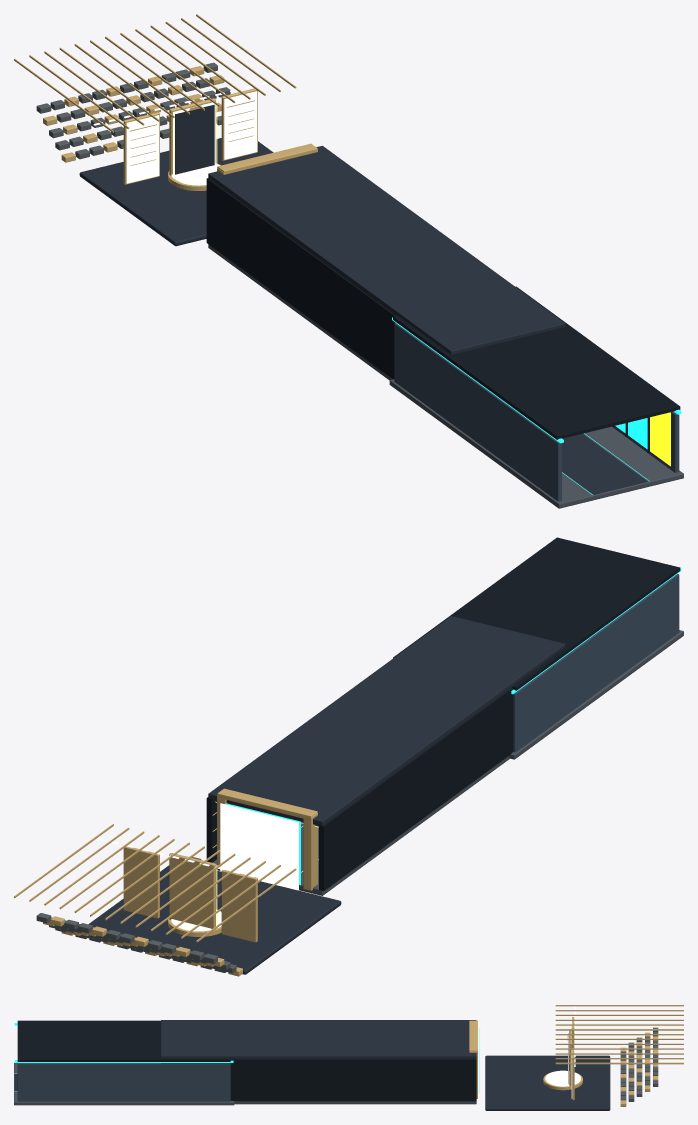
File: reveal-tunnel-BcxPwDFV.glb
The picture shows the model from 3 angles, top to bottom: view 1: azimuth 30°, elevation 25°; view 2: azimuth 150°, elevation 25°; view 3: azimuth 270°, elevation 25°; orthographic projection. The views are drawn at different scales.
Visible parts, largest first — view 1: TunnelCeiling, EntryCeiling, TunnelWall_-1, EntryWallBase_-1, StageDeck, EntranceFloor, EntryRunway, CardPhotoBacking, StatBoardFace_5.0, StatBoardFace_-5.0, GateFrameTop, LEDWall_1_0 (+2 smaller); view 2: TunnelCeiling, EntryCeiling, TunnelWall_-1, EntryWallBase_-1, StageDeck, GateGlow, CardOuterFrame, StatBoardHousing_-5.0, StatBoardHousing_5.0, EntranceFloor, TunnelFloor, GateFrameTop (+2 smaller); view 3: TunnelCeiling, TunnelWall_1, EntryWallBase_1, EntryCeiling, StageDeck, EntranceFloor, TunnelFloor, CardPedestalTop, StadiumRoofTruss_12, GateFrameTop, StadiumRoofTruss_4, StadiumRoofTruss_5 (+12 smaller).
Boxes of the visible parts, <box> form: TunnelCeiling: <box>208,145,565,354</box>; EntryCeiling: <box>393,286,680,439</box>; TunnelWall_-1: <box>206,178,395,379</box>; EntryWallBase_-1: <box>394,323,561,501</box>; StageDeck: <box>79,138,273,246</box>; EntranceFloor: <box>389,379,683,508</box>; EntryRunway: <box>562,434,647,494</box>; CardPhotoBacking: <box>175,104,214,174</box>; StatBoardFace_5.0: <box>224,91,257,159</box>; StatBoardFace_-5.0: <box>126,115,159,183</box>; GateFrameTop: <box>217,143,317,174</box>; LEDWall_1_0: <box>650,412,670,466</box>; TunnelCeiling: <box>208,616,565,826</box>; EntryCeiling: <box>393,537,680,690</box>; TunnelWall_-1: <box>319,687,513,890</box>; EntryWallBase_-1: <box>513,574,679,752</box>; StageDeck: <box>88,865,341,974</box>; GateGlow: <box>220,803,298,889</box>; CardOuterFrame: <box>169,853,215,930</box>; StatBoardHousing_-5.0: <box>221,870,257,942</box>; StatBoardHousing_5.0: <box>123,846,159,918</box>; EntranceFloor: <box>509,630,683,759</box>; TunnelFloor: <box>212,756,509,895</box>; GateFrameTop: <box>217,788,317,819</box>; TunnelCeiling: <box>161,1020,476,1058</box>; TunnelWall_1: <box>161,1059,476,1101</box>; EntryWallBase_1: <box>17,1063,230,1101</box>; EntryCeiling: <box>17,1020,230,1061</box>; StageDeck: <box>485,1055,610,1110</box>; EntranceFloor: <box>14,1063,234,1105</box>; TunnelFloor: <box>234,1101,476,1104</box>; CardPedestalTop: <box>545,1070,580,1086</box>; StadiumRoofTruss_12: <box>555,1062,683,1064</box>; GateFrameTop: <box>469,1020,477,1051</box>; StadiumRoofTruss_4: <box>555,1024,683,1025</box>; StadiumRoofTruss_5: <box>555,1029,683,1030</box>.
Size of the model in its own units: 19.5 by 7.85 by 91.25.
